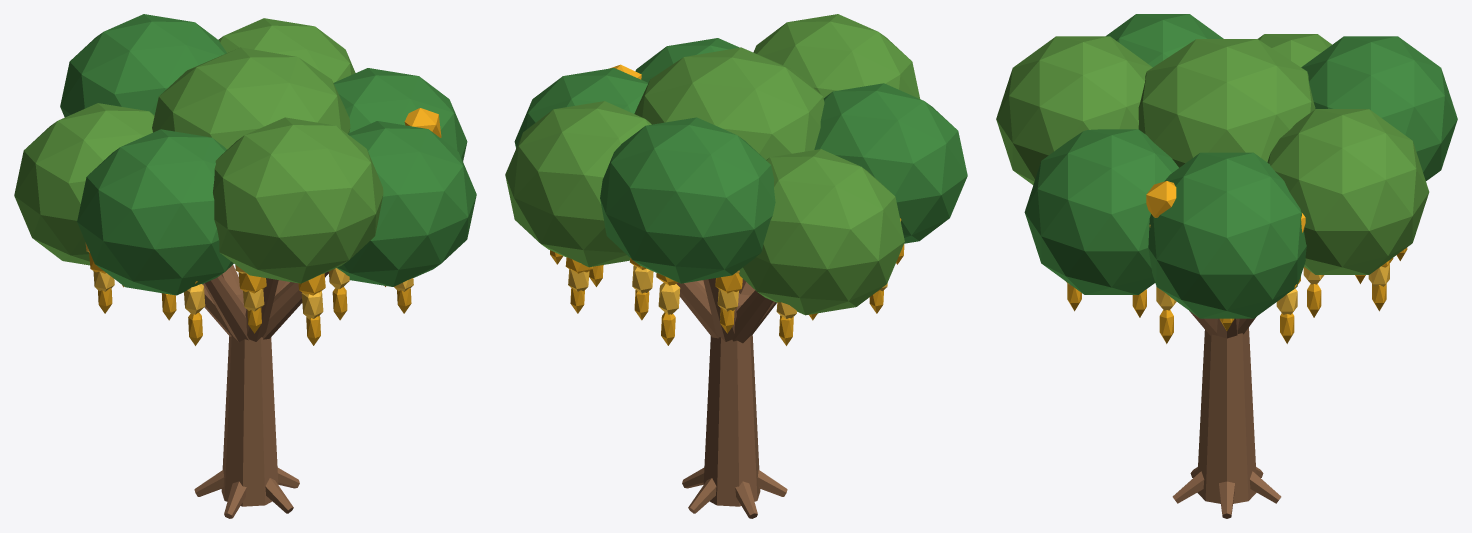
Rendered from tree-golden-shower.glb.
The picture shows the model from 3 angles, left to right: view 1: azimuth 30°, elevation 25°; view 2: azimuth 150°, elevation 25°; view 3: azimuth 270°, elevation 25°; orthographic projection.
Parts seen in each view (by area): view 1: Golden shower green canopy.005, Golden shower green canopy.004, Golden shower green canopy.006, Golden shower central canopy, Golden shower green canopy.003, Golden shower green canopy.002, Golden shower trunk, Golden shower green canopy, Golden shower green canopy.001, Golden shower branch.004, Golden shower branch.006, Golden shower branch.005 (+1 smaller); view 2: Golden shower green canopy.002, Golden shower green canopy.003, Golden shower green canopy.001, Golden shower green canopy.004, Golden shower central canopy, Golden shower green canopy.005, Golden shower trunk, Golden shower green canopy, Golden shower green canopy.006, Golden shower branch.003, Golden shower branch.001, Golden shower branch.002 (+1 smaller); view 3: Golden shower green canopy, Golden shower green canopy.001, Golden shower green canopy.006, Golden shower central canopy, Golden shower green canopy.005, Golden shower green canopy.002, Golden shower trunk, Golden shower green canopy.004, Golden shower green canopy.003, Dangling golden flower bunch.085.
Boxes of the visible parts, bbox=[...] form: Golden shower green canopy.005: bbox=[213, 117, 383, 283]; Golden shower green canopy.004: bbox=[77, 129, 233, 295]; Golden shower green canopy.006: bbox=[337, 121, 476, 286]; Golden shower central canopy: bbox=[152, 47, 350, 149]; Golden shower green canopy.003: bbox=[14, 103, 154, 265]; Golden shower green canopy.002: bbox=[60, 14, 226, 117]; Golden shower trunk: bbox=[221, 293, 278, 506]; Golden shower green canopy: bbox=[333, 68, 467, 161]; Golden shower green canopy.001: bbox=[218, 18, 355, 82]; Golden shower branch.004: bbox=[203, 275, 248, 341]; Golden shower branch.006: bbox=[262, 271, 328, 339]; Golden shower branch.005: bbox=[245, 278, 278, 341]; Golden shower green canopy.002: bbox=[600, 117, 775, 283]; Golden shower green canopy.003: bbox=[739, 149, 904, 315]; Golden shower green canopy.001: bbox=[505, 101, 651, 267]; Golden shower green canopy.004: bbox=[814, 83, 967, 243]; Golden shower central canopy: bbox=[634, 47, 824, 159]; Golden shower green canopy.005: bbox=[753, 14, 919, 98]; Golden shower trunk: bbox=[703, 293, 760, 506]; Golden shower green canopy: bbox=[514, 68, 648, 148]; Golden shower green canopy.006: bbox=[635, 38, 739, 82]; Golden shower branch.003: bbox=[732, 290, 773, 343]; Golden shower branch.001: bbox=[676, 281, 718, 338]; Golden shower branch.002: bbox=[703, 278, 736, 341]; Golden shower green canopy: bbox=[1148, 152, 1306, 318]; Golden shower green canopy.001: bbox=[1267, 109, 1429, 274]; Golden shower green canopy.006: bbox=[1024, 129, 1178, 294]; Golden shower central canopy: bbox=[1138, 39, 1315, 167]; Golden shower green canopy.005: bbox=[996, 36, 1152, 184]; Golden shower green canopy.002: bbox=[1301, 36, 1457, 180]; Golden shower trunk: bbox=[1197, 327, 1256, 503]; Golden shower green canopy.004: bbox=[1106, 14, 1223, 67]; Golden shower green canopy.003: bbox=[1258, 34, 1331, 67]; Dangling golden flower bunch.085: bbox=[1146, 181, 1176, 217].
Size of the model in its own units: 2.3 by 2.46 by 2.28.
